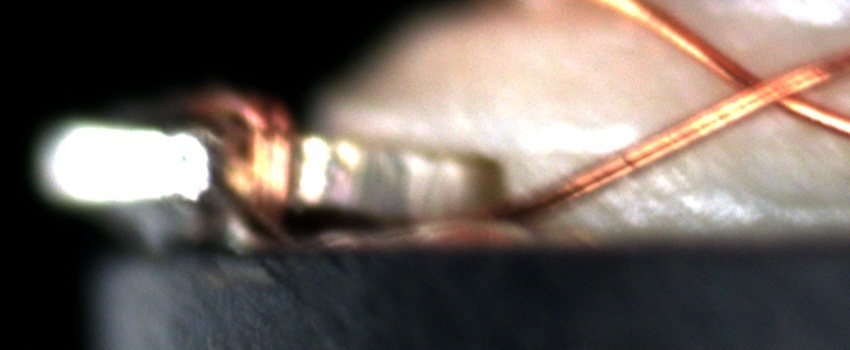CL: (715, 54, 821, 123)
DL: (505, 126, 649, 171)
TE: (177, 76, 304, 237)
